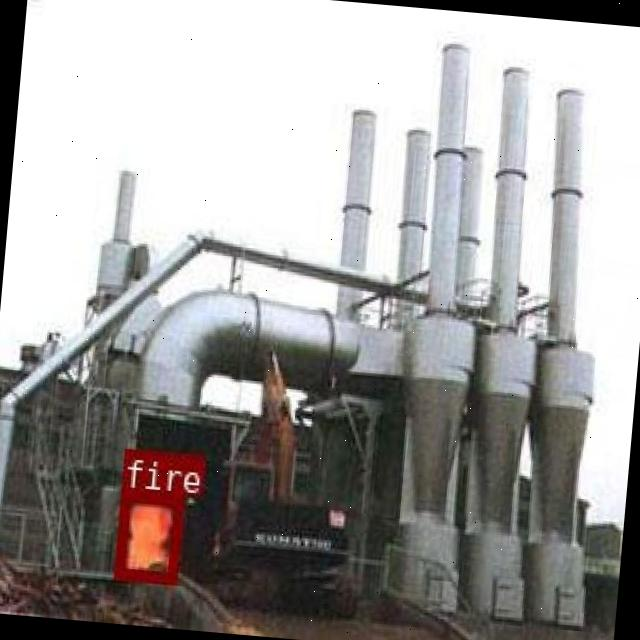fire: (113, 486, 183, 580)
